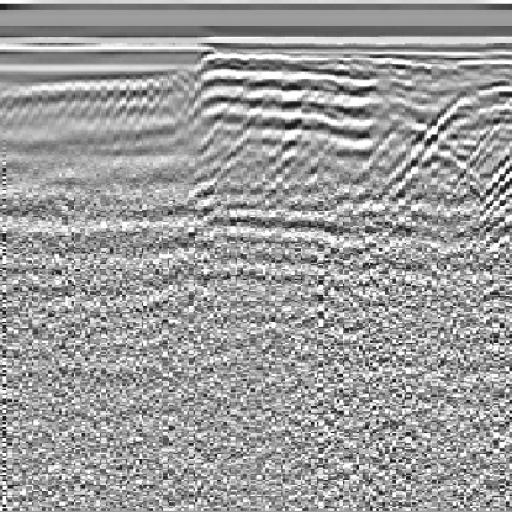metalic: (392, 63, 512, 284)
